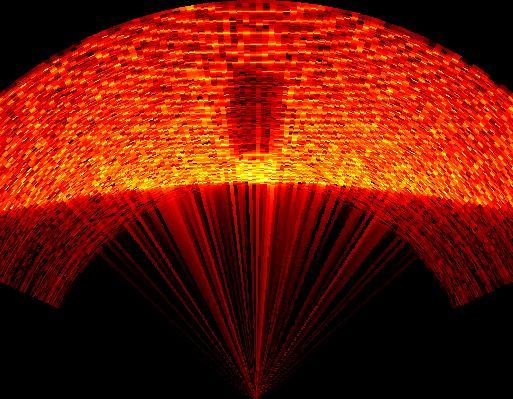box_crate: (222, 60, 291, 179)
